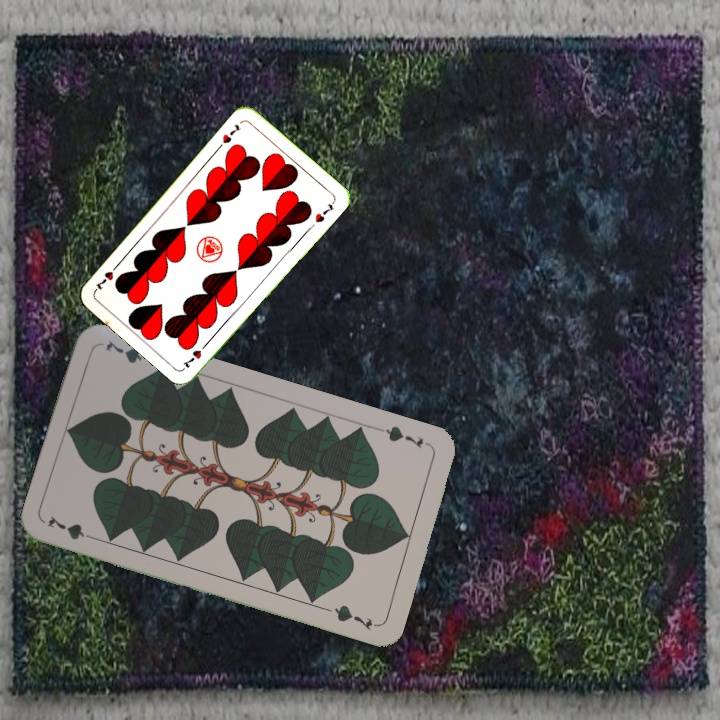G7: (43, 512, 101, 544), (375, 421, 433, 451)
H7: (180, 338, 211, 371), (218, 120, 244, 146)
